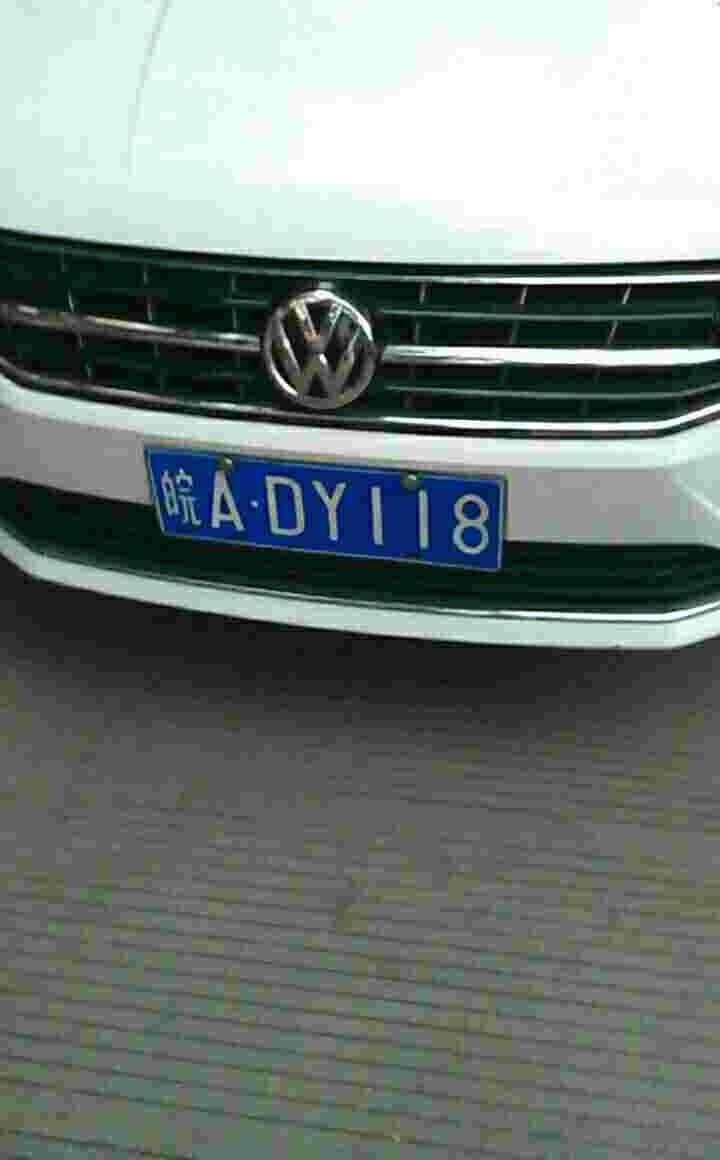license_plate: (151, 441, 512, 572)
